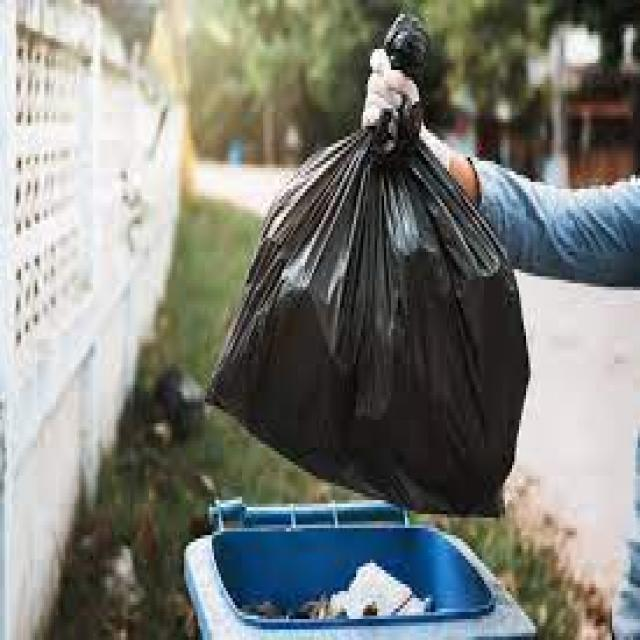garbage: (184, 14, 530, 525), (232, 560, 438, 630)
